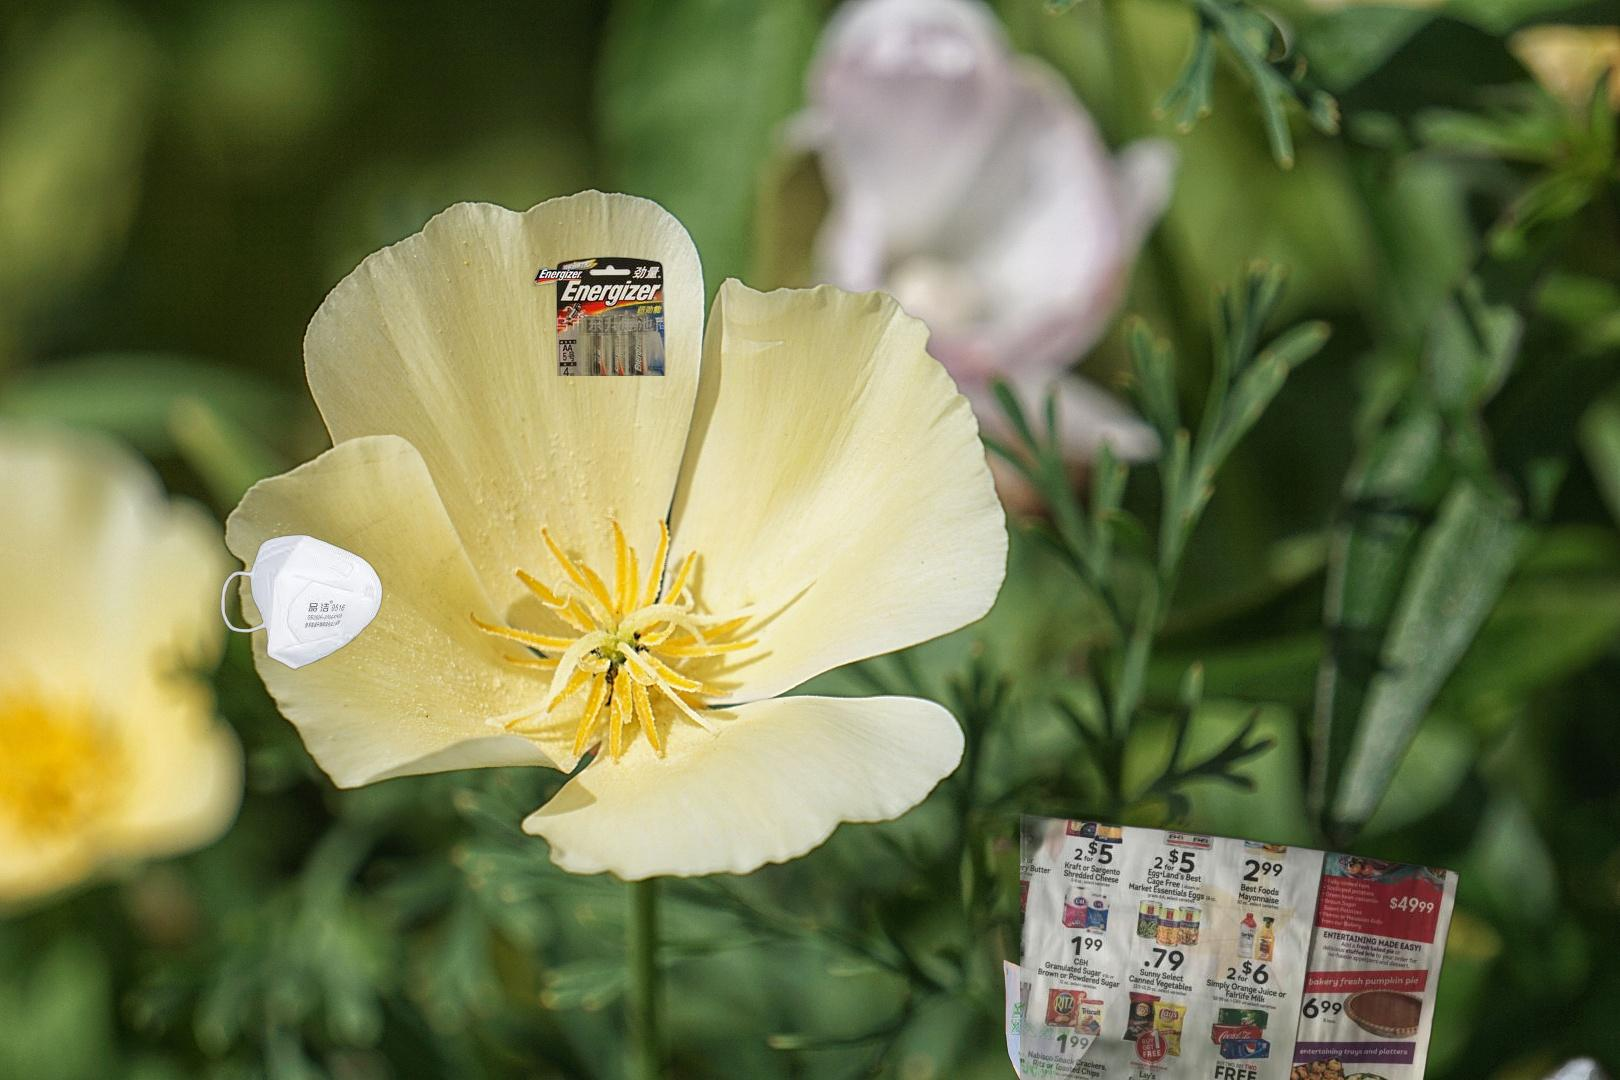battery: (529, 254, 677, 376)
paper: (1020, 809, 1465, 1080)
plastic-bag: (1000, 958, 1128, 1080)
trash: (218, 532, 421, 673)
trashbox-cardboard: (1125, 1025, 1620, 1080)
